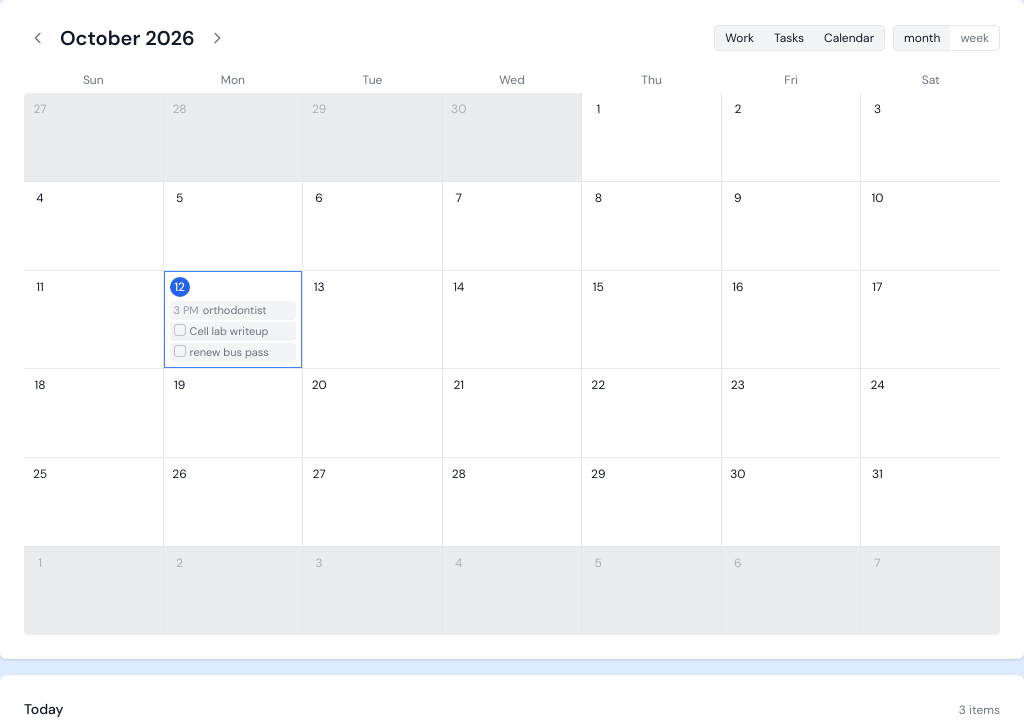
it: the calendar aggregates tasks alongside work › either source can be switched off
This screenshot has width=1024, height=727.
Click the button "Tasks". click: (789, 38)
box: x1=764 y1=26 x2=814 y2=50
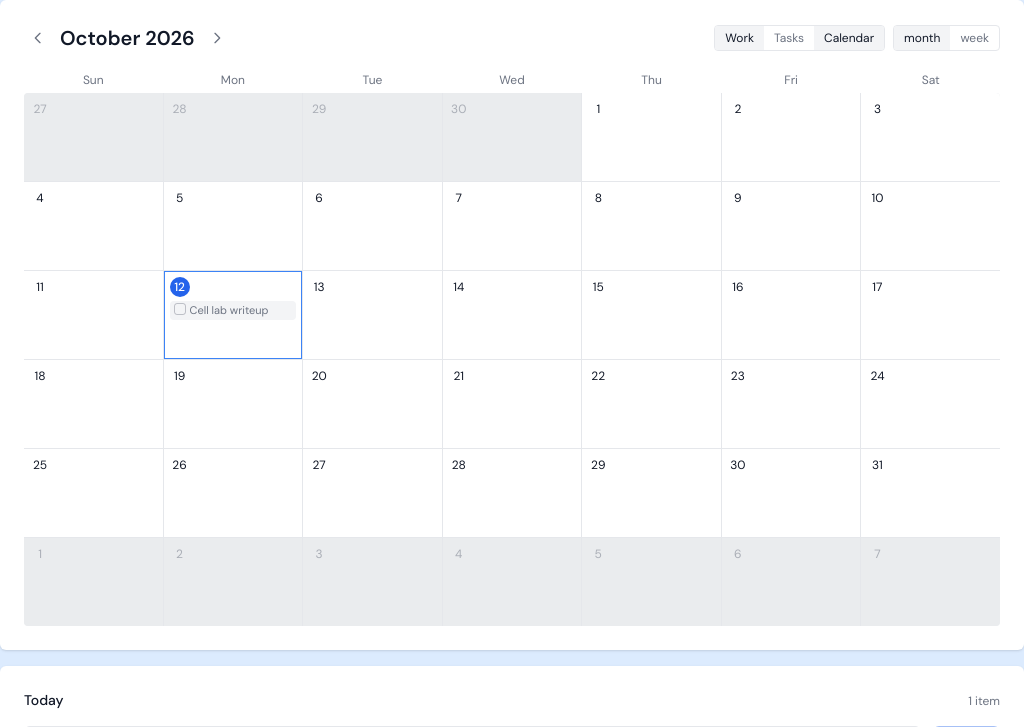
Expected: the button "Cell lab writeup" is shown, x1=190 y1=303 x2=292 y2=318
Expected: the button "renew bus pass" is gone
Click the button "Work". click: (740, 38)
box: x1=715 y1=26 x2=764 y2=50
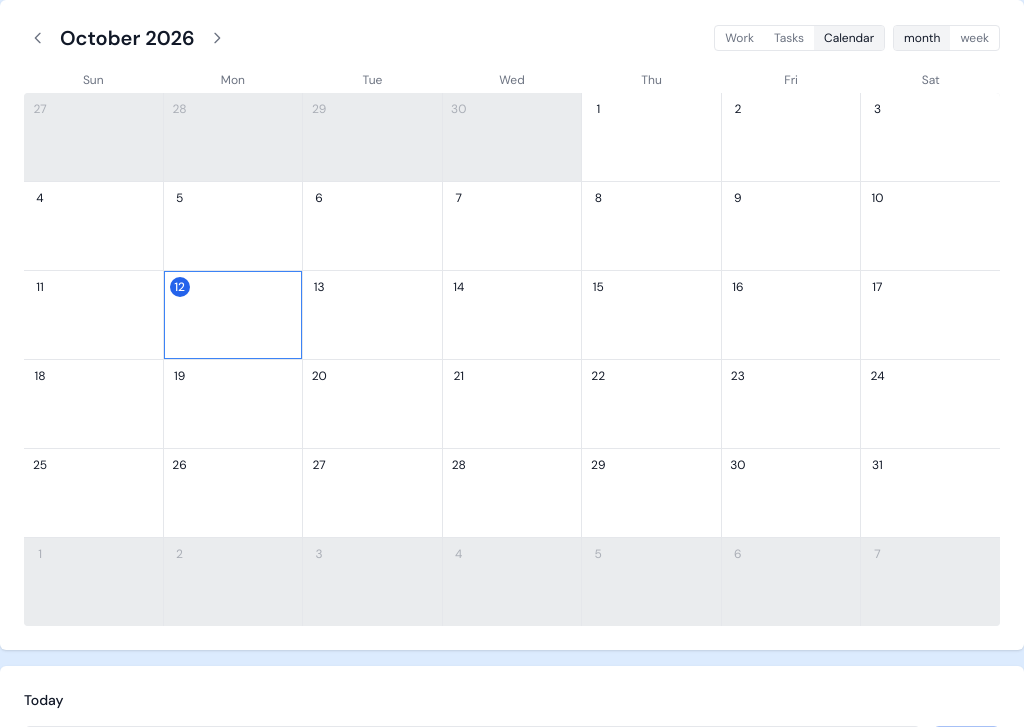
Expected: the button "Cell lab writeup" is gone
